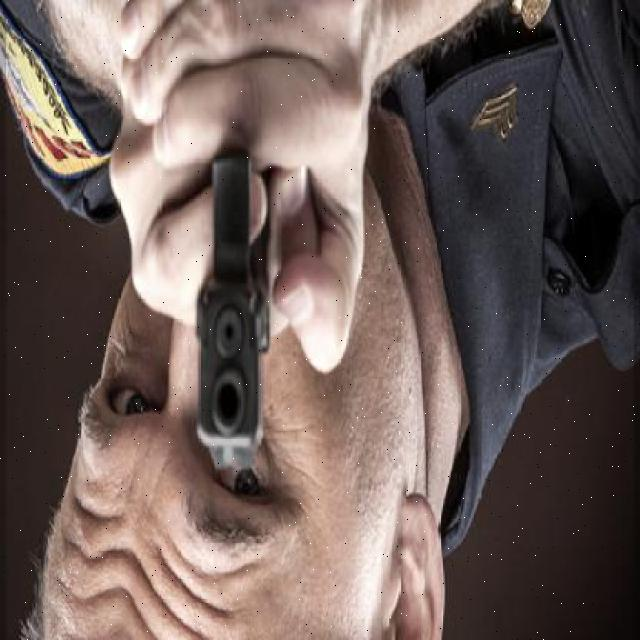gun: (162, 99, 369, 492)
